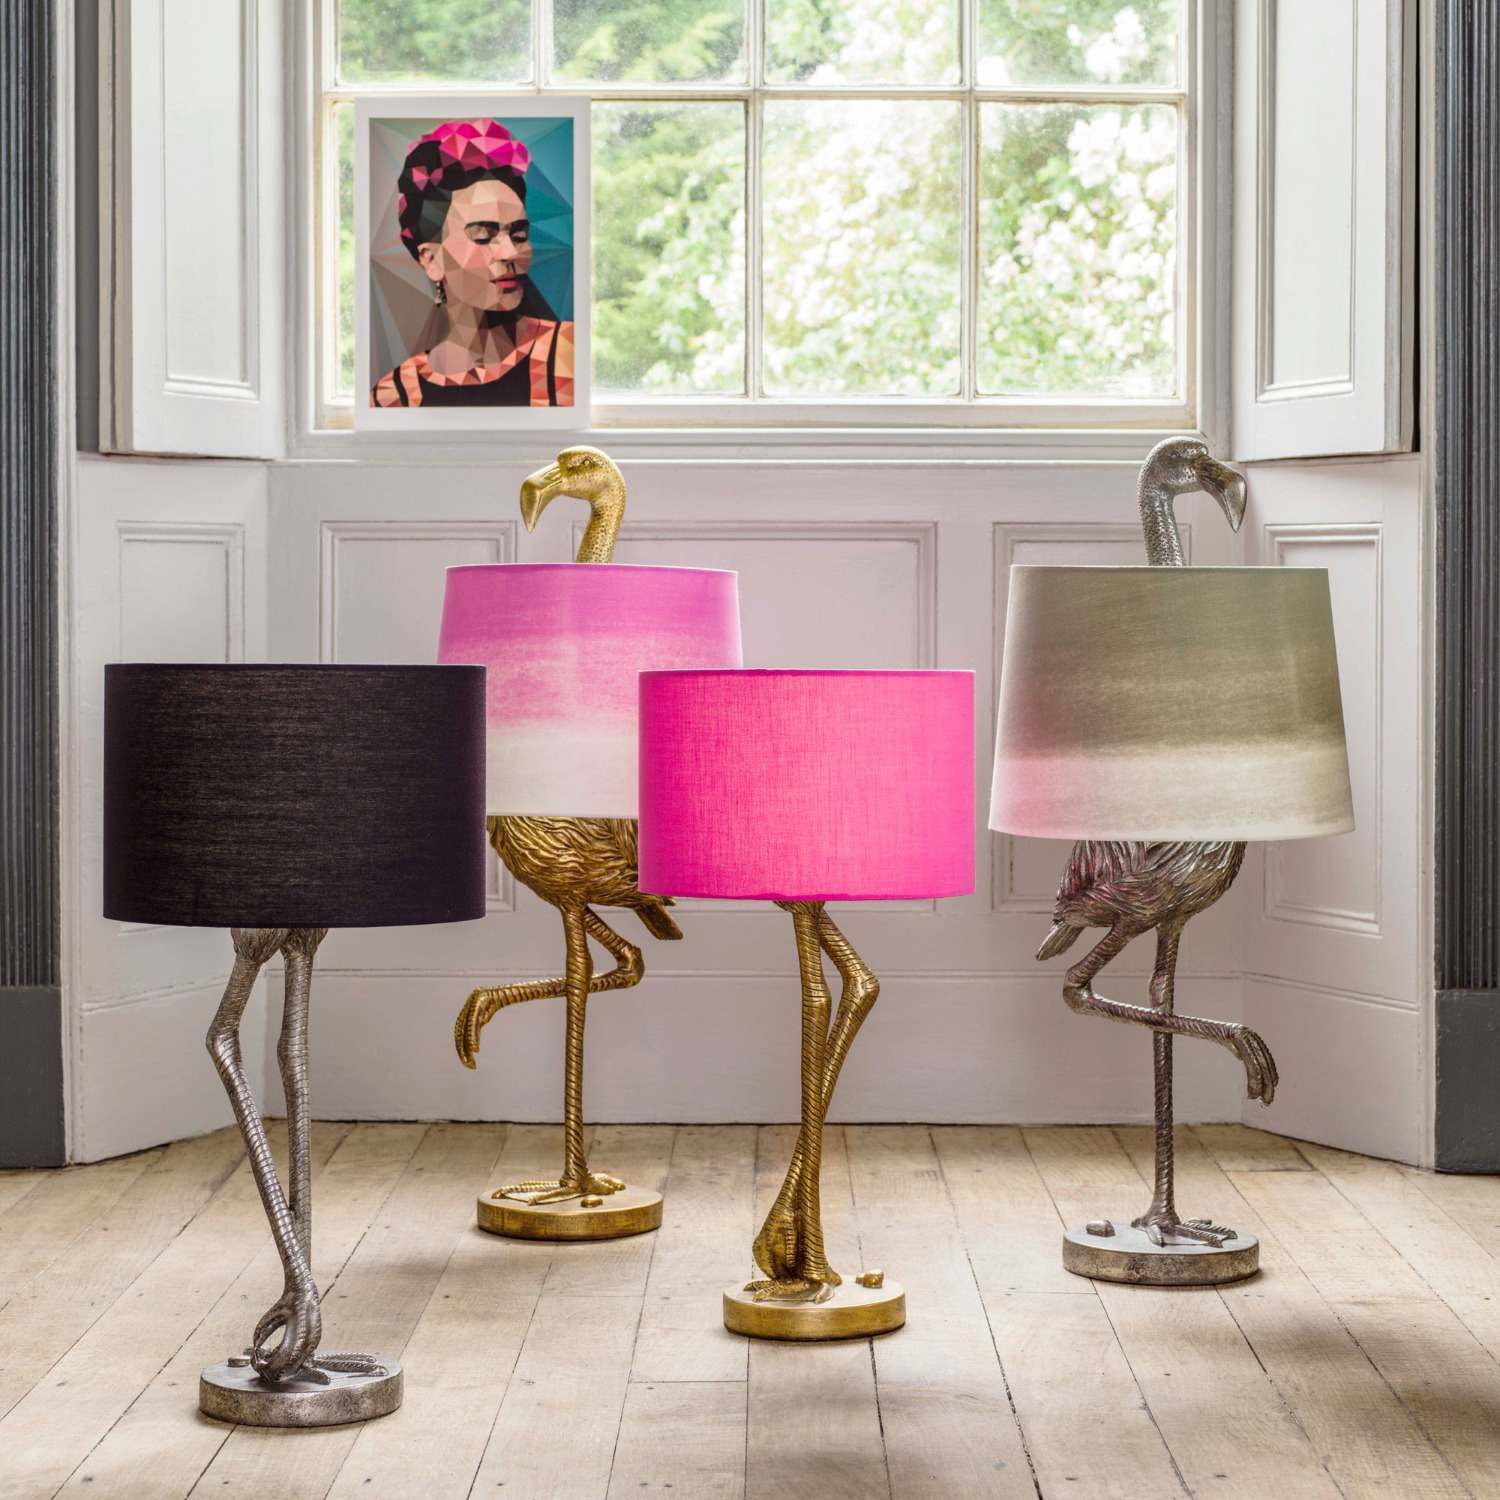lampu: (1, 652, 522, 1423), (989, 560, 1353, 1304), (637, 666, 974, 1352)
lukisan: (354, 95, 593, 429)
